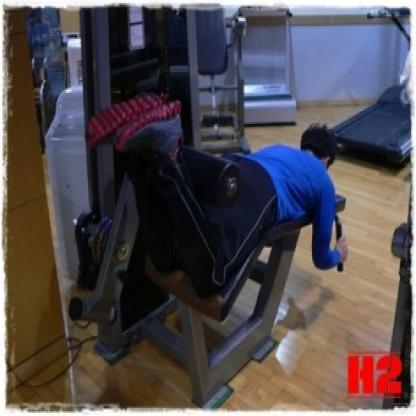reg curl machine: (61, 1, 350, 413)
